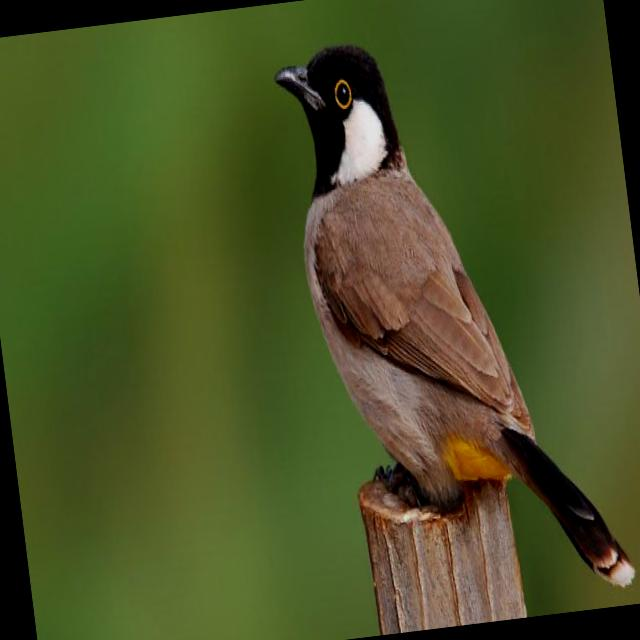bird: (262, 0, 640, 635)
